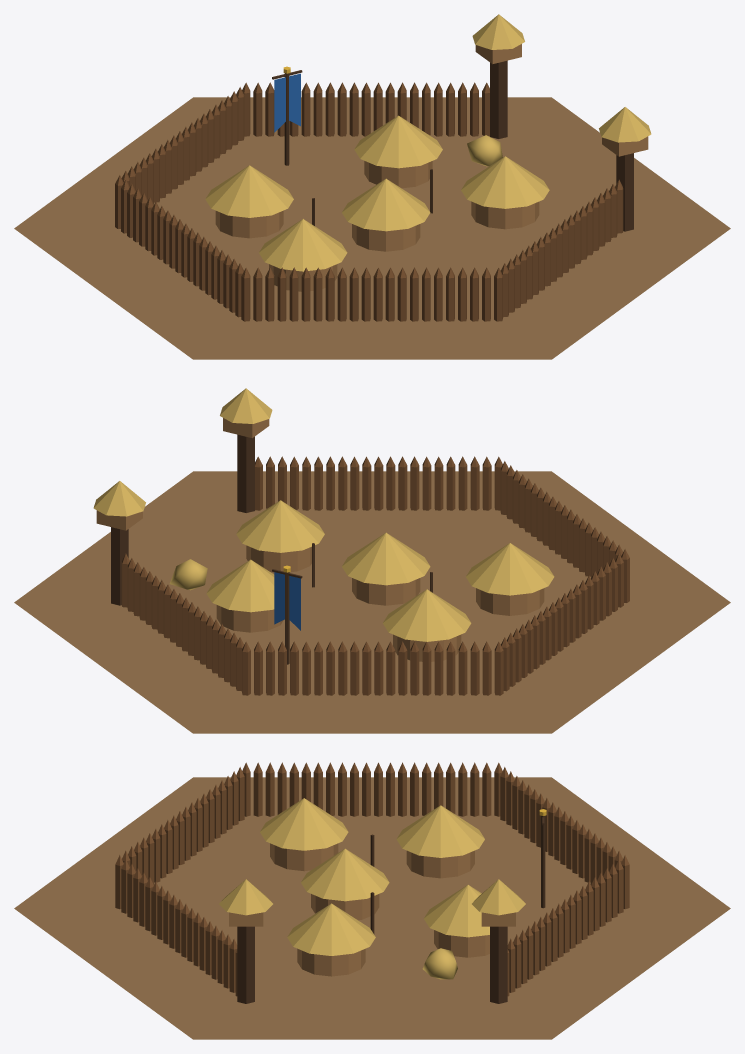
File: district_oppidum_1.fbx
The picture shows the model from 3 angles, top to bottom: view 1: azimuth 30°, elevation 25°; view 2: azimuth 150°, elevation 25°; view 3: azimuth 270°, elevation 25°; orthographic projection.
Parts seen in each view (by area): view 1: district_oppidum_1; view 2: district_oppidum_1; view 3: district_oppidum_1.
Boxes of the visible parts, box(x1,y1,x2,y2) form: district_oppidum_1: box(14, 14, 730, 359); district_oppidum_1: box(14, 388, 730, 733); district_oppidum_1: box(14, 762, 730, 1039).
Size of the model in its own units: 182 by 39.4 by 210.
